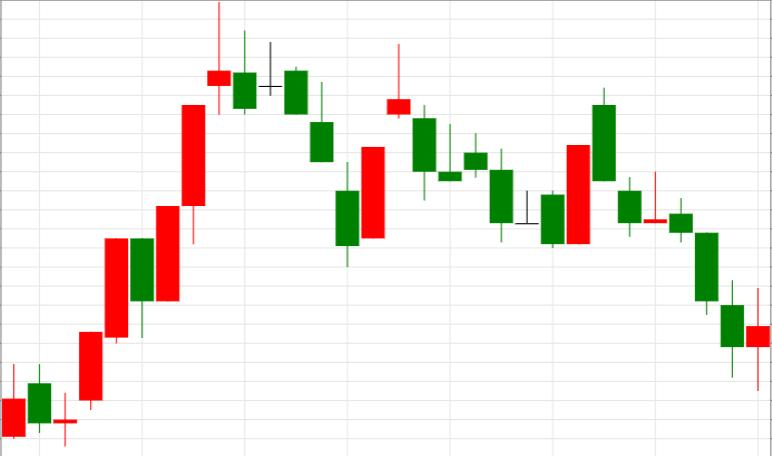evening_star_fall: (53, 1, 256, 446)
